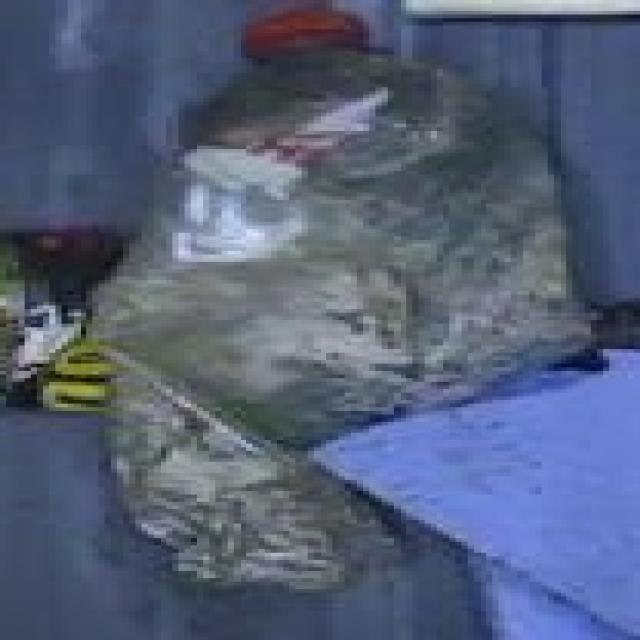litter: (77, 0, 605, 589)
